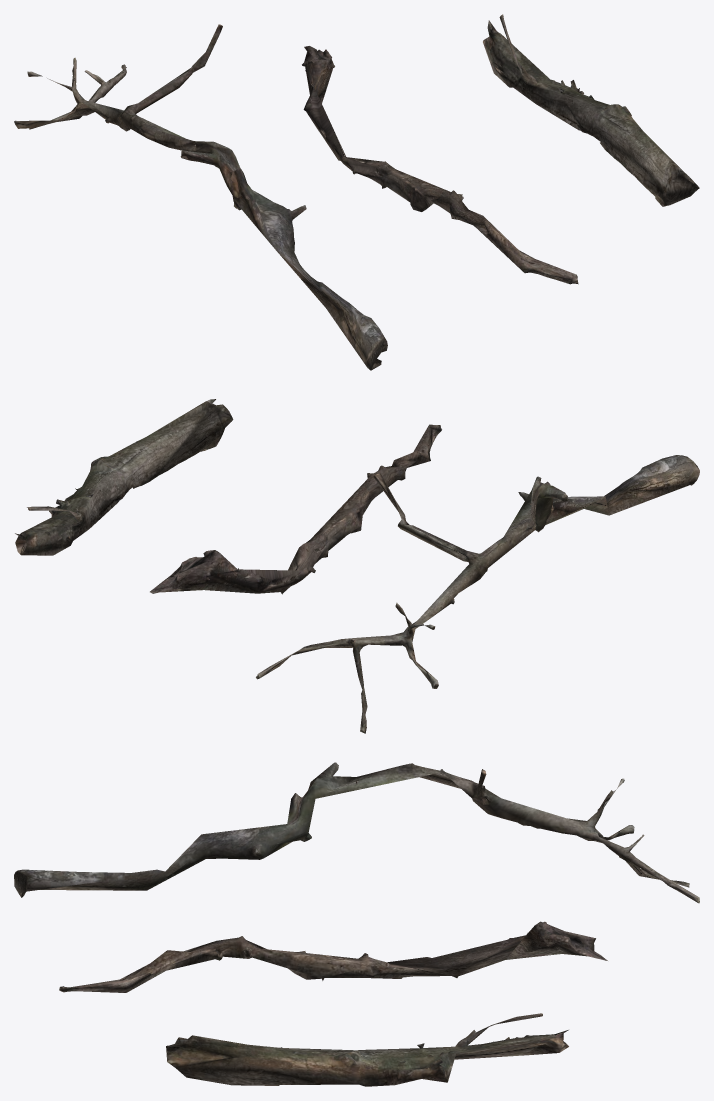
Rendered from dry_branches_medium_01.glb.
3 views of the same model, one above another, from view 1: azimuth 30°, elevation 25°; view 2: azimuth 150°, elevation 25°; view 3: azimuth 270°, elevation 25° (orthographic). The views are drawn at different scales.
Visible parts, largest first — view 1: dry_branches_medium_01_a, dry_branches_medium_01_c, dry_branches_medium_01_b; view 2: dry_branches_medium_01_a, dry_branches_medium_01_c, dry_branches_medium_01_b; view 3: dry_branches_medium_01_a, dry_branches_medium_01_c, dry_branches_medium_01_b.
Part boxes in pixels (box(x1,y1,x2,y2)): dry_branches_medium_01_a: box(14, 24, 387, 370); dry_branches_medium_01_c: box(483, 14, 699, 206); dry_branches_medium_01_b: box(302, 46, 578, 284); dry_branches_medium_01_a: box(256, 455, 699, 733); dry_branches_medium_01_c: box(15, 399, 233, 555); dry_branches_medium_01_b: box(150, 424, 441, 594); dry_branches_medium_01_a: box(14, 762, 699, 903); dry_branches_medium_01_c: box(166, 1013, 568, 1086); dry_branches_medium_01_b: box(59, 921, 607, 992).
Size of the model in its own units: 1.05 by 0.3401 by 1.3.
1 material, 1 textured.
